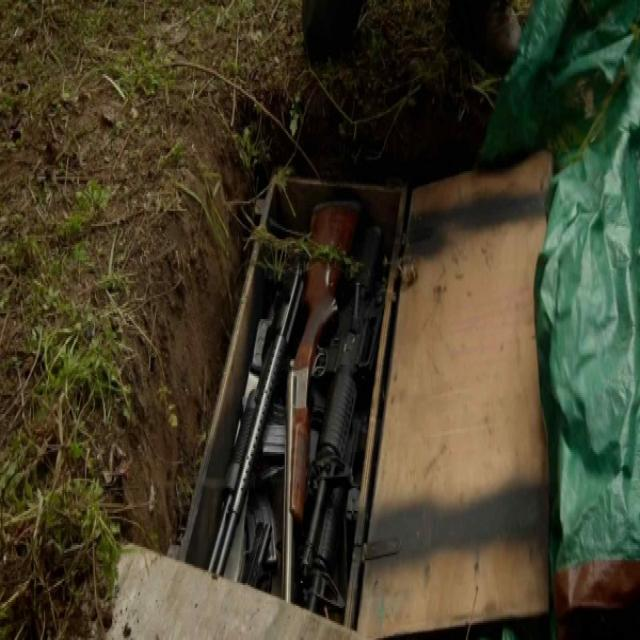rifle: (280, 199, 362, 617)
